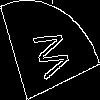W: (25, 25, 72, 86)
